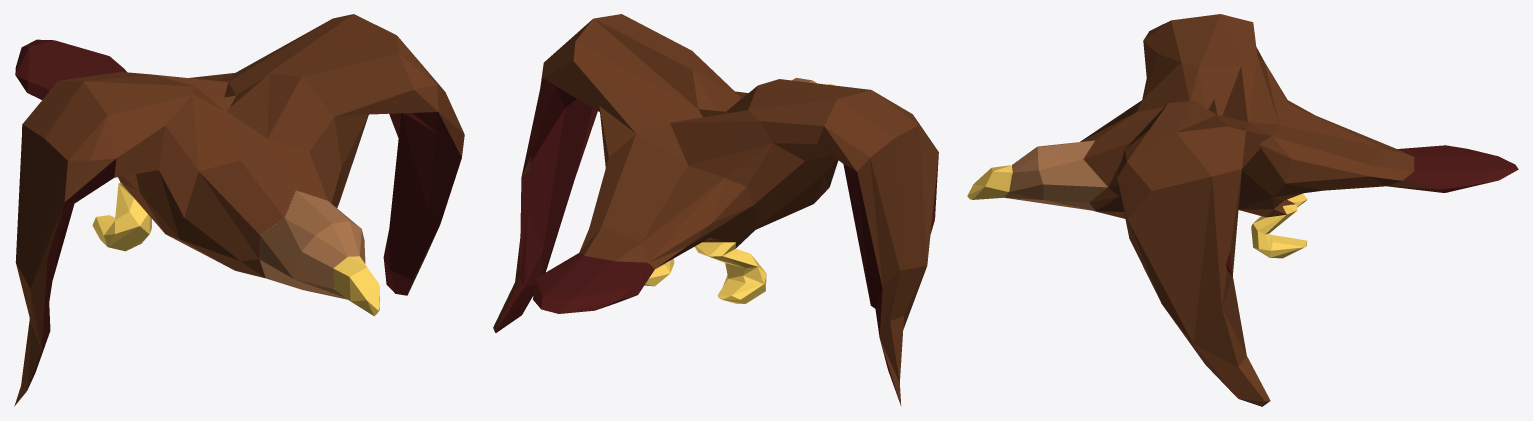
File: aguili_000025.obj
3 views of the same model, side by side, from view 1: azimuth 30°, elevation 25°; view 2: azimuth 150°, elevation 25°; view 3: azimuth 270°, elevation 25° (orthographic). The views are drawn at different scales.
Parts seen in each view (by area): view 1: aguila.001_Cube.001; view 2: aguila.001_Cube.001; view 3: aguila.001_Cube.001.
Boxes of the visible parts, bbox=[...] form: aguila.001_Cube.001: bbox=[14, 14, 464, 406]; aguila.001_Cube.001: bbox=[493, 14, 938, 406]; aguila.001_Cube.001: bbox=[967, 14, 1518, 406].
Bounding box in the file's own units: 40.23 × 29.09 × 56.5.
1 material, 1 textured.
